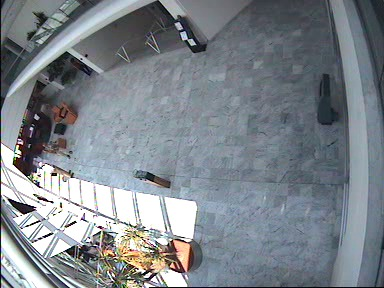person: (38, 162, 74, 179), (41, 141, 73, 159), (69, 57, 90, 76)
